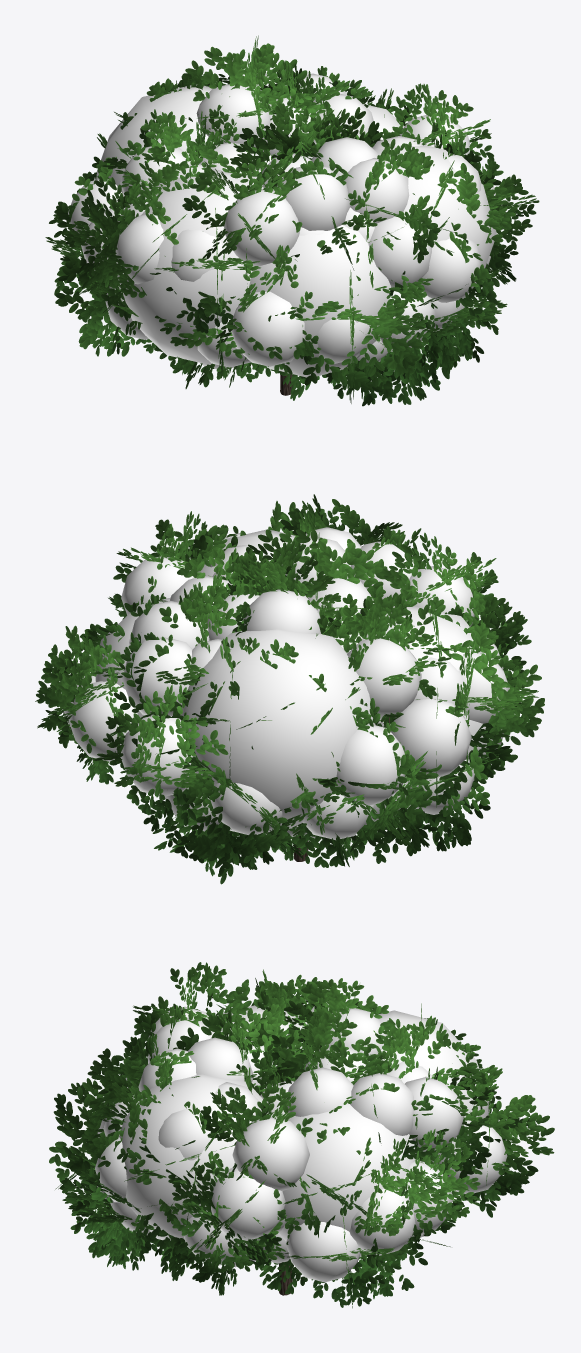
The model's file is bush_box.gltf.
3 renders of one model, top to bottom at view 1: azimuth 30°, elevation 25°; view 2: azimuth 150°, elevation 25°; view 3: azimuth 270°, elevation 25°, orthographic. The views are drawn at different scales.
Visible parts, largest first — view 1: bush_box_leaves_LOD0, bush_box_shadow_LOD0; view 2: bush_box_leaves_LOD0, bush_box_shadow_LOD0; view 3: bush_box_leaves_LOD0, bush_box_shadow_LOD0.
Part boxes in pixels (bbox=[...]): bush_box_leaves_LOD0: bbox=[45, 35, 539, 406]; bush_box_shadow_LOD0: bbox=[68, 73, 496, 377]; bush_box_leaves_LOD0: bbox=[35, 494, 544, 884]; bush_box_shadow_LOD0: bbox=[63, 527, 509, 840]; bush_box_leaves_LOD0: bbox=[49, 962, 554, 1308]; bush_box_shadow_LOD0: bbox=[95, 1002, 507, 1282].
Size of what is drawn, in the model's own units: 2.29 by 1.69 by 2.41.
Materials: 3 (2 with a texture image).
